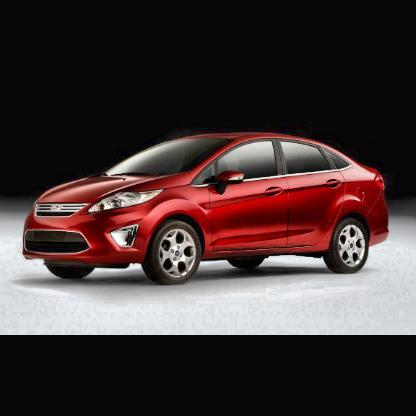Ford Fiesta Sedan 2012: (23, 133, 391, 286)
